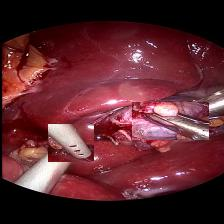Grasper: (131, 102, 208, 140)
Irrigator: (47, 124, 93, 162)
